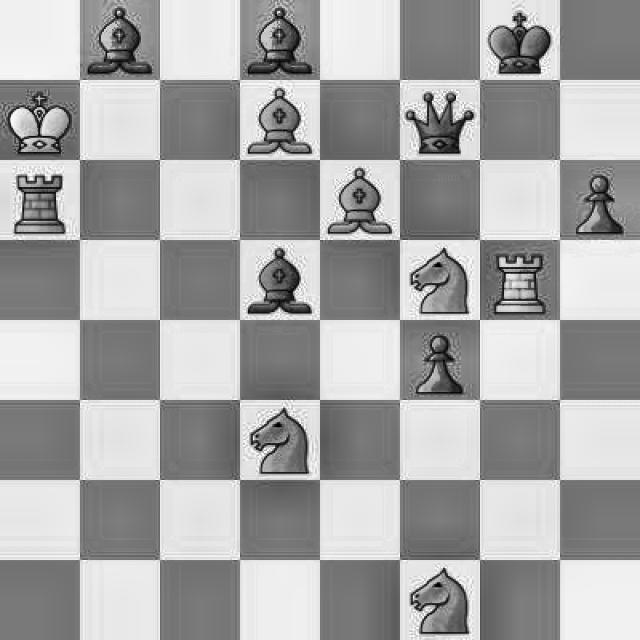black bishop: (80, 0, 158, 79), (240, 1, 316, 78), (239, 242, 314, 318)
black king: (480, 1, 560, 80)
black pawn: (559, 160, 640, 242), (399, 322, 480, 398)
black queen: (401, 82, 479, 161)
white bishop: (320, 161, 400, 241), (240, 80, 318, 159)
white king: (0, 81, 78, 158)
white rook: (1, 164, 78, 238), (482, 240, 555, 318)
whiteknight: (400, 242, 479, 318), (401, 563, 475, 640), (242, 405, 314, 476)
